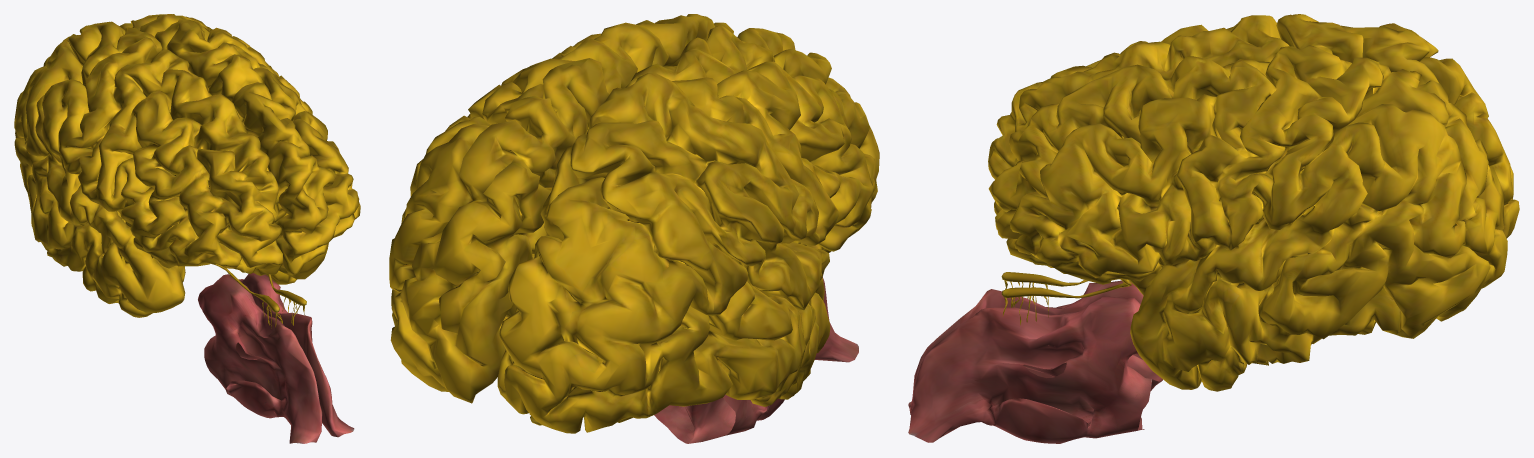
Rendered from olfactory.glb.
3 views of the same model, side by side, from view 1: azimuth 30°, elevation 25°; view 2: azimuth 150°, elevation 25°; view 3: azimuth 270°, elevation 25° (orthographic). The views are drawn at different scales.
Parts seen in each view (by area): view 1: Right_cerebral_cortex_and_pia_mater, Left_cerebral_cortex_and_pia_mater, Nasal_mucosa; view 2: Right_cerebral_cortex_and_pia_mater, Left_cerebral_cortex_and_pia_mater, Nasal_mucosa; view 3: Left_cerebral_cortex_and_pia_mater, Nasal_mucosa, Right_cerebral_cortex_and_pia_mater, Left_olfactory_bulb_Cranial_nerve_I, Right_olfactory_bulb_Cranial_nerve_I.
Part boxes in pixels (left/top/right/bottom): Right_cerebral_cortex_and_pia_mater: left=14, top=21, right=282, bottom=317; Left_cerebral_cortex_and_pia_mater: left=120, top=14, right=360, bottom=284; Nasal_mucosa: left=198, top=273, right=354, bottom=443; Right_cerebral_cortex_and_pia_mater: left=497, top=25, right=879, bottom=433; Left_cerebral_cortex_and_pia_mater: left=389, top=14, right=733, bottom=403; Nasal_mucosa: left=654, top=277, right=858, bottom=443; Left_cerebral_cortex_and_pia_mater: left=988, top=45, right=1507, bottom=391; Nasal_mucosa: left=908, top=280, right=1162, bottom=443; Right_cerebral_cortex_and_pia_mater: left=988, top=14, right=1519, bottom=238; Left_olfactory_bulb_Cranial_nerve_I: left=1001, top=279, right=1131, bottom=298; Right_olfactory_bulb_Cranial_nerve_I: left=1001, top=272, right=1087, bottom=286.
Bounding box in the file's own units: 0.1202 × 0.1406 × 0.1958.
Materials: 8 (8 with a texture image).
